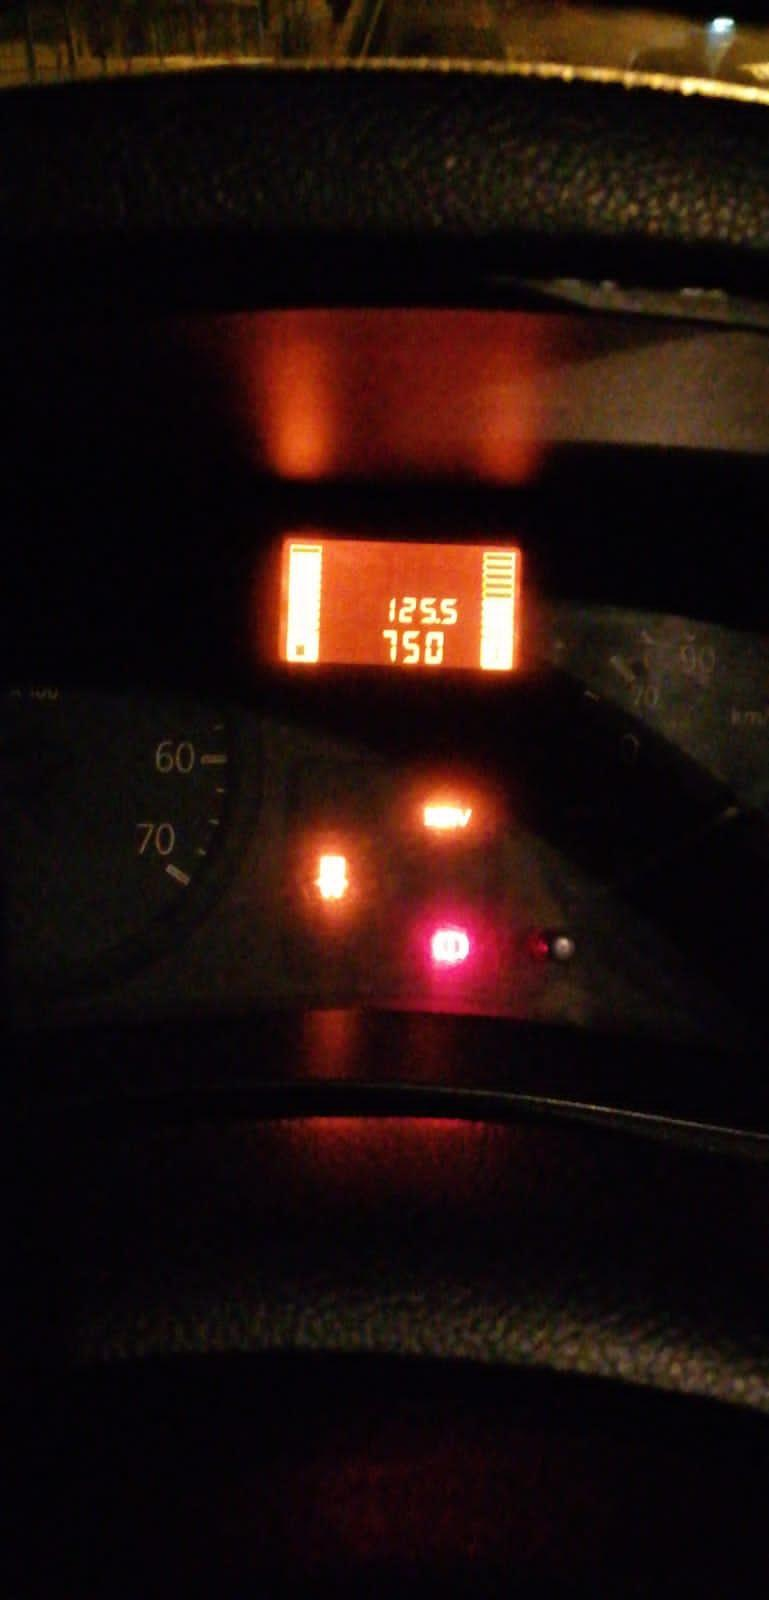,: (435, 616, 441, 624)
0: (424, 631, 445, 665)
1: (387, 596, 396, 623)
2: (398, 596, 417, 623)
5: (401, 629, 421, 665), (440, 597, 457, 624), (419, 597, 435, 624)
7: (381, 627, 399, 664)
odometer: (274, 531, 524, 676)
